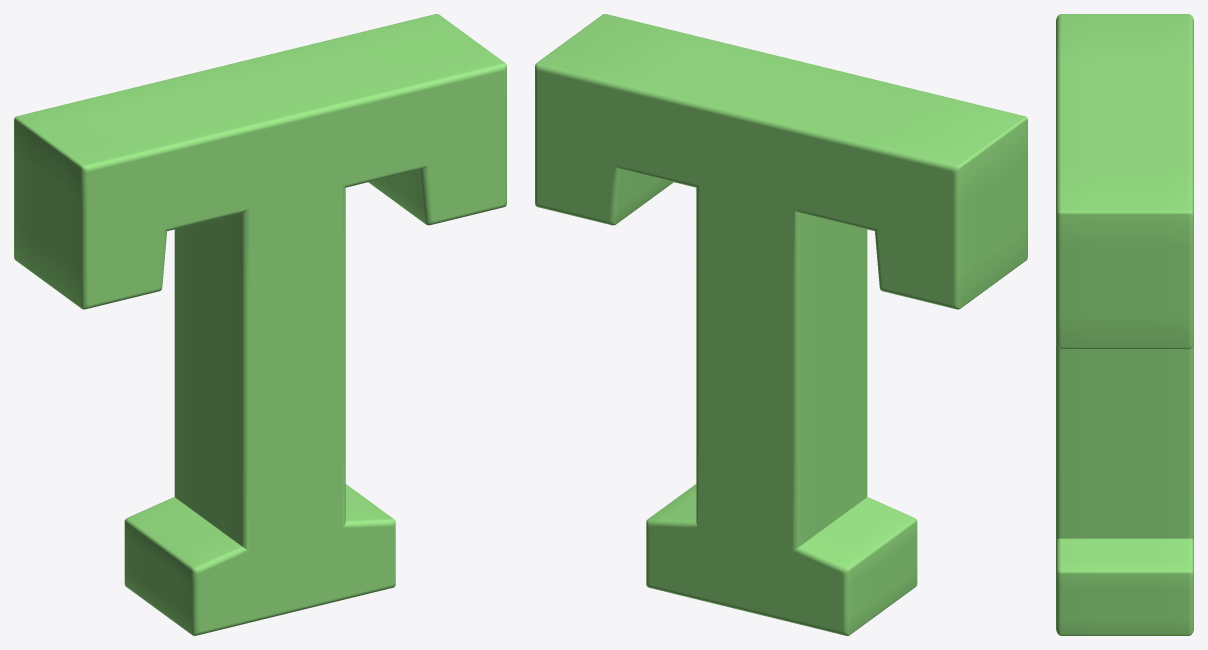
3 views of the same model, side by side, from view 1: azimuth 30°, elevation 25°; view 2: azimuth 150°, elevation 25°; view 3: azimuth 270°, elevation 25° (orthographic). The views are drawn at different scales.
Visible parts, largest first — view 1: Curve.001; view 2: Curve.001; view 3: Curve.001.
Boxes of the visible parts, left/top/right/bottom form: Curve.001: left=14, top=14, right=506, bottom=635; Curve.001: left=535, top=14, right=1027, bottom=635; Curve.001: left=1056, top=14, right=1193, bottom=635.
Bounding box in the file's own units: 1.54 × 1.72 × 0.4507.
